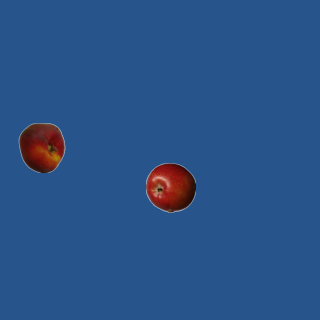Apple Braeburn: (145, 162, 195, 212)
Nectarine Flat: (16, 122, 66, 172)
